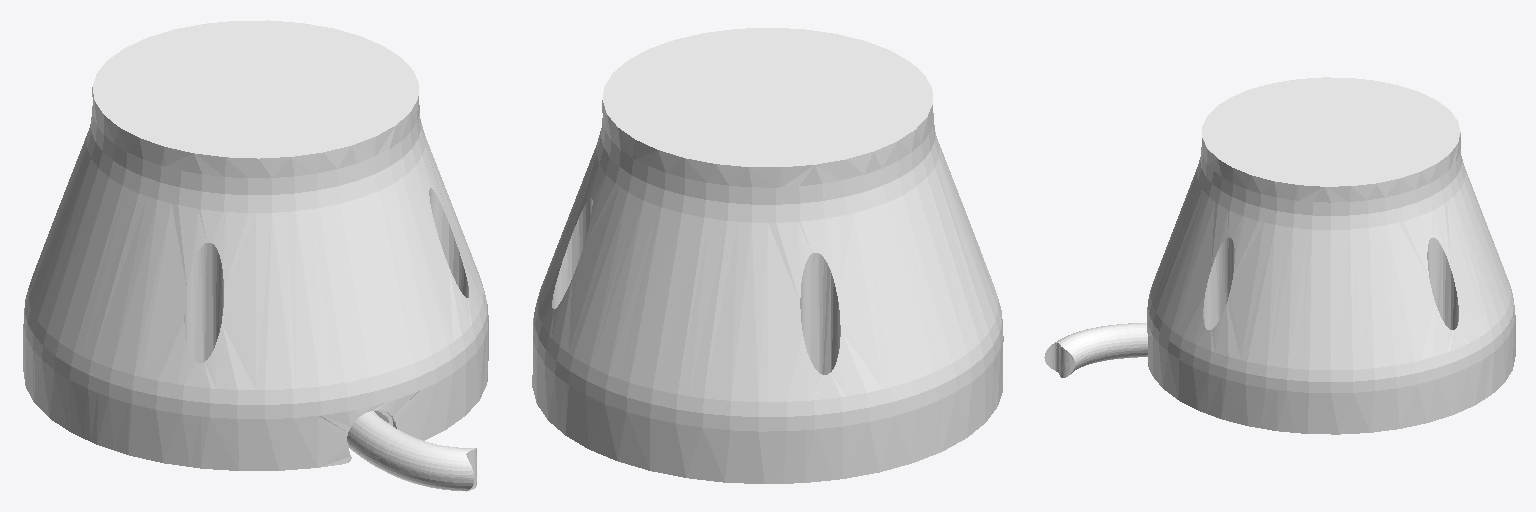
robot.urdf — ur33_5.SLDASM:
<?xml version="1.0" encoding="utf-8"?>
<!-- This URDF was automatically created by SolidWorks to URDF Exporter! Originally created by [author] ([email redacted]) 
     Commit Version: 1.6.0-4-g7f85cfe  Build Version: 1.6.7995.38578
     For more information, please see http://wiki.ros.org/sw_urdf_exporter -->
<robot
  name="ur33_5.SLDASM">
  <link
    name="base_link">
    <inertial>
      <origin
        xyz="3.93116168057695E-05 0.046220310995705 0.000808491080125992"
        rpy="0 0 0" />
      <mass
        value="0.615785283013906" />
      <inertia
        ixx="0.000761300764311581"
        ixy="3.53676883539907E-07"
        ixz="-2.98963200654779E-07"
        iyy="0.00100294058166069"
        iyz="3.46585976118834E-06"
        izz="0.000774576499049897" />
    </inertial>
    <visual>
      <origin
        xyz="0 0 0"
        rpy="0 0 0" />
      <geometry>
        <mesh
          filename="package://ur33_5.SLDASM/meshes/base_link.STL" />
      </geometry>
      <material
        name="">
        <color
          rgba="1 1 1 1" />
      </material>
    </visual>
    <collision>
      <origin
        xyz="0 0 0"
        rpy="0 0 0" />
      <geometry>
        <mesh
          filename="package://ur33_5.SLDASM/meshes/base_link.STL" />
      </geometry>
    </collision>
  </link>
  <link
    name="link1">
    <inertial>
      <origin
        xyz="6.40625775913872E-06 0.054270421113684 -0.0073384897831299"
        rpy="0 0 0" />
      <mass
        value="0.755651972571794" />
      <inertia
        ixx="0.00106903797369433"
        ixy="9.48353620032472E-08"
        ixz="9.89315736653741E-08"
        iyy="0.000906485139777163"
        iyz="0.000131067701862536"
        izz="0.000990118676481056" />
    </inertial>
    <visual>
      <origin
        xyz="0 0 0"
        rpy="0 0 0" />
      <geometry>
        <mesh
          filename="package://ur33_5.SLDASM/meshes/link1.STL" />
      </geometry>
      <material
        name="">
        <color
          rgba="1 1 1 1" />
      </material>
    </visual>
    <collision>
      <origin
        xyz="0 0 0"
        rpy="0 0 0" />
      <geometry>
        <mesh
          filename="package://ur33_5.SLDASM/meshes/link1.STL" />
      </geometry>
    </collision>
  </link>
  <joint
    name="joint1"
    type="continuous">
    <origin
      xyz="0 0 0.08605"
      rpy="-3.14159265358979 0 -2.12131588599297" />
    <parent
      link="base_link" />
    <child
      link="link1" />
    <axis
      xyz="0 0 1" />
    <limit
      lower="-3.14"
      upper="3.14"
      effort="100"
      velocity="2" />
  </joint>
  <link
    name="link2">
    <inertial>
      <origin
        xyz="-3.40662919534607E-06 0.105709589894391 -0.116589773897471"
        rpy="0 0 0" />
      <mass
        value="1.80164817391607" />
      <inertia
        ixx="0.00264980120870353"
        ixy="1.00358855444061E-07"
        ixz="8.54007575295211E-08"
        iyy="0.00166988003581637"
        iyz="8.10906621570899E-05"
        izz="0.0025172679877967" />
    </inertial>
    <visual>
      <origin
        xyz="0 0 0"
        rpy="0 0 0" />
      <geometry>
        <mesh
          filename="package://ur33_5.SLDASM/meshes/link2.STL" />
      </geometry>
      <material
        name="">
        <color
          rgba="1 1 1 1" />
      </material>
    </visual>
    <collision>
      <origin
        xyz="0 0 0"
        rpy="0 0 0" />
      <geometry>
        <mesh
          filename="package://ur33_5.SLDASM/meshes/link2.STL" />
      </geometry>
    </collision>
  </link>
  <joint
    name="joint2"
    type="continuous">
    <origin
      xyz="0 0 -0.065849973272205"
      rpy="1.5707963267949 0 -3.14159265358979" />
    <parent
      link="link1" />
    <child
      link="link2" />
    <axis
      xyz="0 0 1" />
    <limit
      lower="-3.14"
      upper="3.14"
      effort="100"
      velocity="2" />
  </joint>
  <link
    name="link3">
    <inertial>
      <origin
        xyz="2.24339715593214E-06 0.111202714258687 -0.0317831977238209"
        rpy="0 0 0" />
      <mass
        value="0.962318952715275" />
      <inertia
        ixx="0.00107272032844326"
        ixy="2.02715758953269E-08"
        ixz="4.87756162548128E-09"
        iyy="0.000542662095833821"
        iyz="-4.61078716735541E-05"
        izz="0.00101486278864245" />
    </inertial>
    <visual>
      <origin
        xyz="0 0 0"
        rpy="0 0 0" />
      <geometry>
        <mesh
          filename="package://ur33_5.SLDASM/meshes/link3.STL" />
      </geometry>
      <material
        name="">
        <color
          rgba="1 1 1 1" />
      </material>
    </visual>
    <collision>
      <origin
        xyz="0 0 0"
        rpy="0 0 0" />
      <geometry>
        <mesh
          filename="package://ur33_5.SLDASM/meshes/link3.STL" />
      </geometry>
    </collision>
  </link>
  <joint
    name="joint3"
    type="continuous">
    <origin
      xyz="0.141667881004013 -0.198231011680394 0"
      rpy="-3.14159265358979 0 0.620497634557815" />
    <parent
      link="link2" />
    <child
      link="link3" />
    <axis
      xyz="0 0 1" />
    <limit
      lower="-3.14"
      upper="3.14"
      effort="100"
      velocity="2" />
  </joint>
  <link
    name="link4">
    <inertial>
      <origin
        xyz="-6.99518387436981E-06 -0.000517780620435226 -0.0835319337644838"
        rpy="0 0 0" />
      <mass
        value="0.32531348575404" />
      <inertia
        ixx="0.000226231397858026"
        ixy="-2.0344125053814E-09"
        ixz="2.89652917661909E-09"
        iyy="0.000199092283222693"
        iyz="1.83494653286662E-05"
        izz="0.000194599812294664" />
    </inertial>
    <visual>
      <origin
        xyz="0 0 0"
        rpy="0 0 0" />
      <geometry>
        <mesh
          filename="package://ur33_5.SLDASM/meshes/link4.STL" />
      </geometry>
      <material
        name="">
        <color
          rgba="1 1 1 1" />
      </material>
    </visual>
    <collision>
      <origin
        xyz="0 0 0"
        rpy="0 0 0" />
      <geometry>
        <mesh
          filename="package://ur33_5.SLDASM/meshes/link4.STL" />
      </geometry>
    </collision>
  </link>
  <joint
    name="joint4"
    type="continuous">
    <origin
      xyz="-0.162568668943455 0.137624227072808 -0.0205823596352336"
      rpy="3.14159265358979 0 0.86830241372629" />
    <parent
      link="link3" />
    <child
      link="link4" />
    <axis
      xyz="0 0 1" />
    <limit
      lower="-3.14"
      upper="3.14"
      effort="100"
      velocity="2" />
  </joint>
  <link
    name="link5">
    <inertial>
      <origin
        xyz="6.56426410944322E-06 0.056262773239218 0.000517430710179519"
        rpy="0 0 0" />
      <mass
        value="0.32530414179325" />
      <inertia
        ixx="0.000226236571289682"
        ixy="1.56280273461439E-09"
        ixz="-1.73901773998397E-09"
        iyy="0.000194601321220823"
        iyz="1.8349376883379E-05"
        izz="0.00019910302320403" />
    </inertial>
    <visual>
      <origin
        xyz="0 0 0"
        rpy="0 0 0" />
      <geometry>
        <mesh
          filename="package://ur33_5.SLDASM/meshes/link5.STL" />
      </geometry>
      <material
        name="">
        <color
          rgba="1 1 1 1" />
      </material>
    </visual>
    <collision>
      <origin
        xyz="0 0 0"
        rpy="0 0 0" />
      <geometry>
        <mesh
          filename="package://ur33_5.SLDASM/meshes/link5.STL" />
      </geometry>
    </collision>
  </link>
  <joint
    name="joint5"
    type="continuous">
    <origin
      xyz="-0.00565178892594551 -0.0204462178326499 0.0894566136371169"
      rpy="1.5707963267949 0 -0.269687956226347" />
    <parent
      link="link4" />
    <child
      link="link5" />
    <axis
      xyz="0 0 1" />
    <limit
      lower="-3.14"
      upper="3.14"
      effort="100"
      velocity="2" />
  </joint>
  <link
    name="link6">
    <inertial>
      <origin
        xyz="-3.42017217325186E-09 -0.000103313227807433 -0.0496689201397846"
        rpy="0 0 0" />
      <mass
        value="0.115355209052266" />
      <inertia
        ixx="4.24687738288343E-05"
        ixy="8.28353260952953E-12"
        ixz="4.20982546528648E-12"
        iyy="4.2681447202874E-05"
        iyz="-1.03222414801979E-07"
        izz="5.90666201317262E-05" />
    </inertial>
    <visual>
      <origin
        xyz="0 0 0"
        rpy="0 0 0" />
      <geometry>
        <mesh
          filename="package://ur33_5.SLDASM/meshes/link6.STL" />
      </geometry>
      <material
        name="">
        <color
          rgba="1 1 1 1" />
      </material>
    </visual>
    <collision>
      <origin
        xyz="0 0 0"
        rpy="0 0 0" />
      <geometry>
        <mesh
          filename="package://ur33_5.SLDASM/meshes/link6.STL" />
      </geometry>
    </collision>
  </link>
  <joint
    name="joint6"
    type="continuous">
    <origin
      xyz="-0.00252288825058838 0.0120425525055395 0.0621870195022448"
      rpy="-1.5707963267949 0 0.206511156802196" />
    <parent
      link="link5" />
    <child
      link="link6" />
    <axis
      xyz="0 0 1" />
    <limit
      lower="-3.14"
      upper="3.14"
      effort="100"
      velocity="2" />
  </joint>
</robot>

--- Facts derived from the render (not from the file) ---
Views: 3 orthographic renders of the robot side by side, from view 1: azimuth 30°, elevation 25°; view 2: azimuth 150°, elevation 25°; view 3: azimuth 270°, elevation 25°.
Model ur33_5.SLDASM with 7 links and 6 joints (6 continuous), rooted at base_link, posed all joints at 0.
Links seen in each view (by area): view 1: base_link; view 2: base_link; view 3: base_link.
Link boxes in pixels (x1=…): base_link: x1=23, y1=20, x2=488, y2=491; base_link: x1=532, y1=28, x2=1003, y2=483; base_link: x1=1044, y1=77, x2=1515, y2=434.
Bounding box of the posed robot: 0.128 × 0.1635 × 0.0868 m (x, y, z).
1 mesh visuals loaded from 7 distinct referenced files (1 binary STL); not drawn: 6 (reference not matched to a file when rendering).